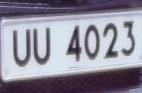0: (83, 19, 102, 66)
2: (102, 18, 121, 66)
3: (120, 15, 138, 63)
4: (63, 19, 84, 69)
U: (9, 25, 33, 72), (32, 23, 55, 69)
